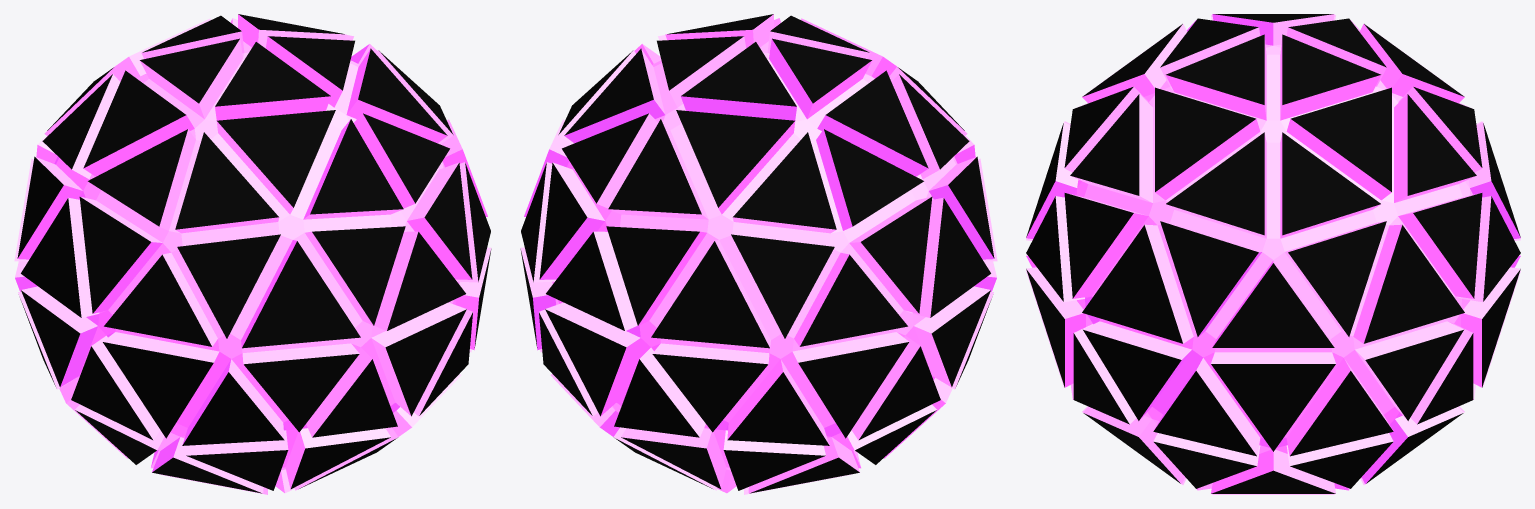
3 renders of one model, left to right at view 1: azimuth 30°, elevation 25°; view 2: azimuth 150°, elevation 25°; view 3: azimuth 270°, elevation 25°, orthographic. The views are drawn at different scales.
Visible parts, largest first — view 1: Icosphere; view 2: Icosphere; view 3: Icosphere.
Part boxes in pixels (box(x1,y1,x2,y2)): Icosphere: box(14, 14, 491, 494); Icosphere: box(520, 14, 997, 494); Icosphere: box(1026, 14, 1520, 494).
Bounding box in the file's own units: 1.89 × 1.96 × 1.95.
